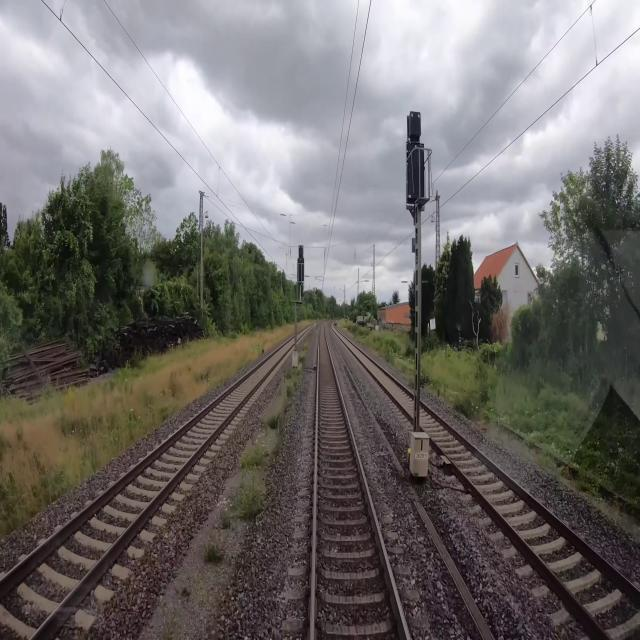Plant: (263, 339, 309, 427), (233, 476, 265, 520), (237, 441, 263, 472), (158, 600, 179, 638), (202, 537, 226, 568), (220, 505, 234, 531)
